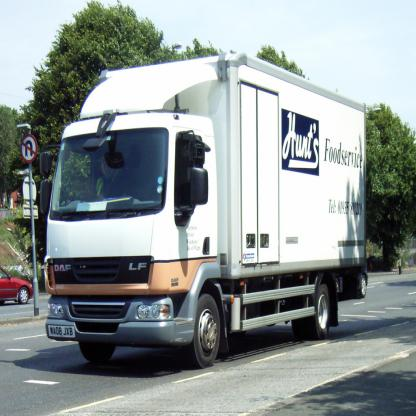Car: (0, 266, 28, 319)
Truck: (42, 57, 365, 376)
